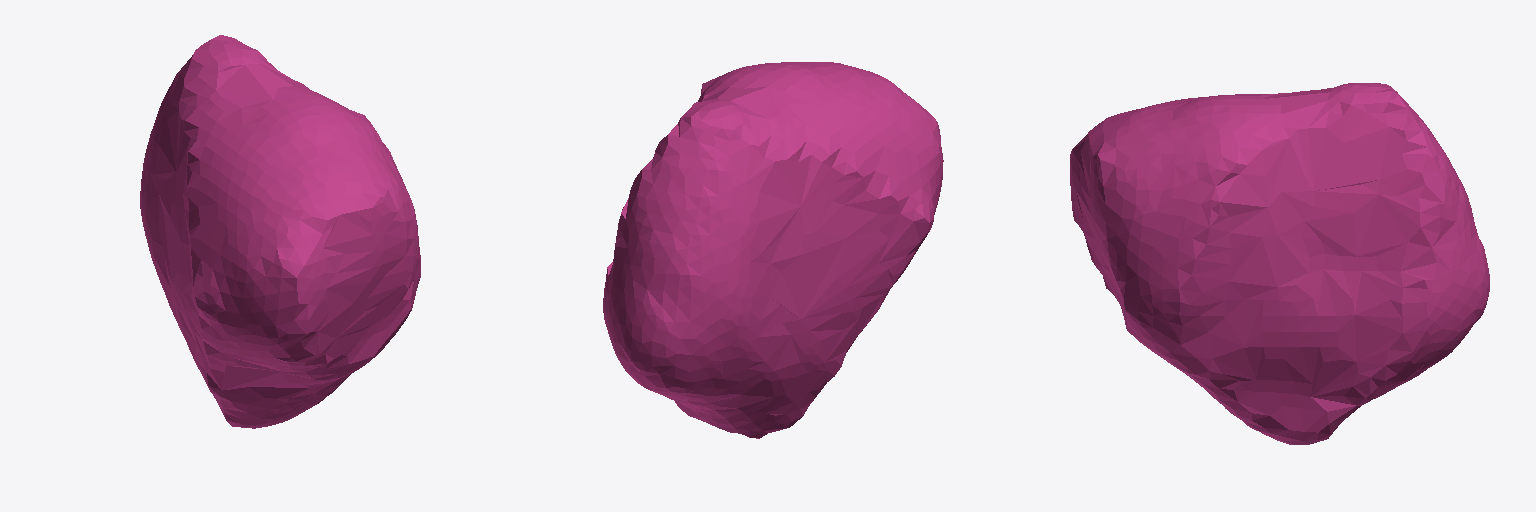
File: Model_10205_LH__Basomedial_amygdaloid_nucleus__magnocellular_part_(BMMC).obj
3 views of the same model, side by side, from view 1: azimuth 30°, elevation 25°; view 2: azimuth 150°, elevation 25°; view 3: azimuth 270°, elevation 25° (orthographic).
Size of the model in its own units: 1.4 by 2.11 by 2.29.